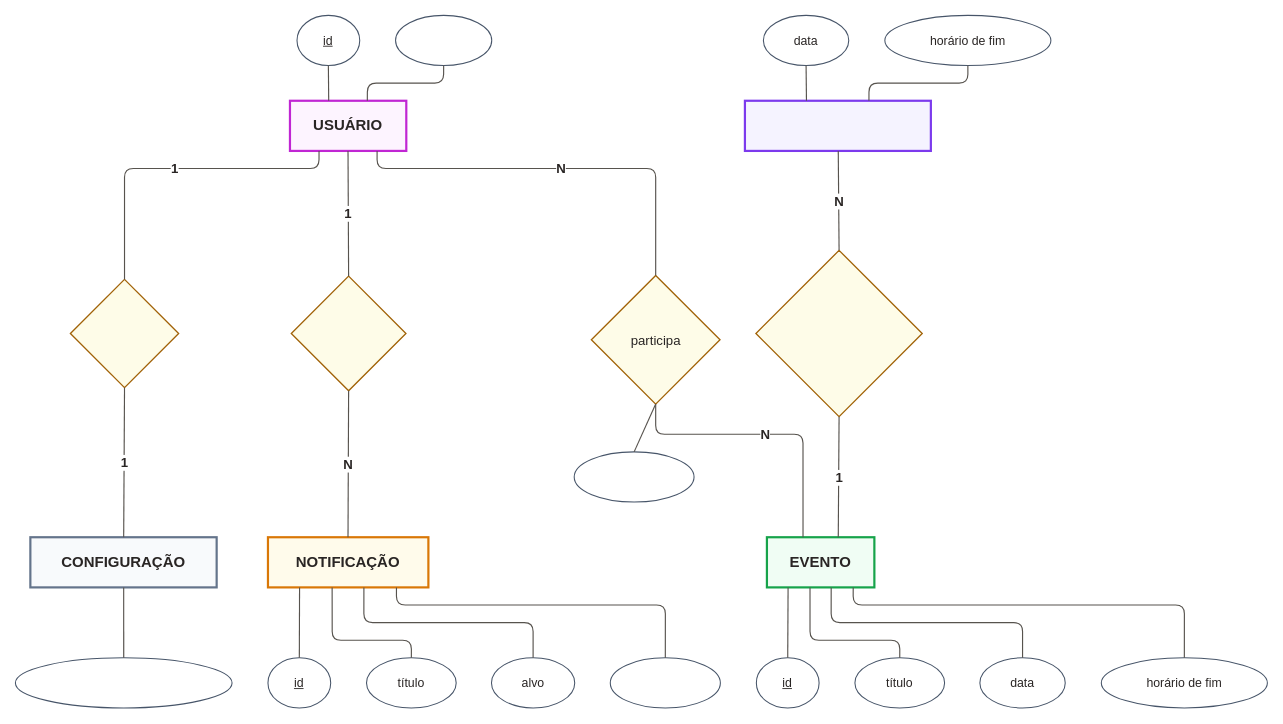
This 1283x724 diagram has some shape labels left out. The shapes that lost their labels are listed below. From the top down, each one's box as (x1, y1, x2, y2) in pixels, then its label:
(395, 14, 492, 66): nome
(743, 99, 932, 152): APRESENTAÇÃO
(69, 278, 179, 388): define
(290, 275, 406, 391): recebe
(755, 249, 923, 417): acontece em
(573, 451, 694, 502): situação
(14, 657, 232, 708): notificações ligadas
(609, 657, 720, 708): lida em
